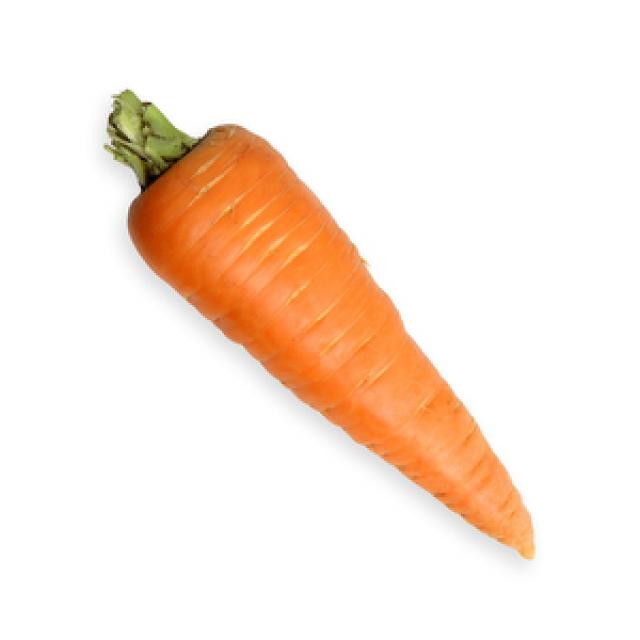Carrot: (89, 84, 538, 563)
